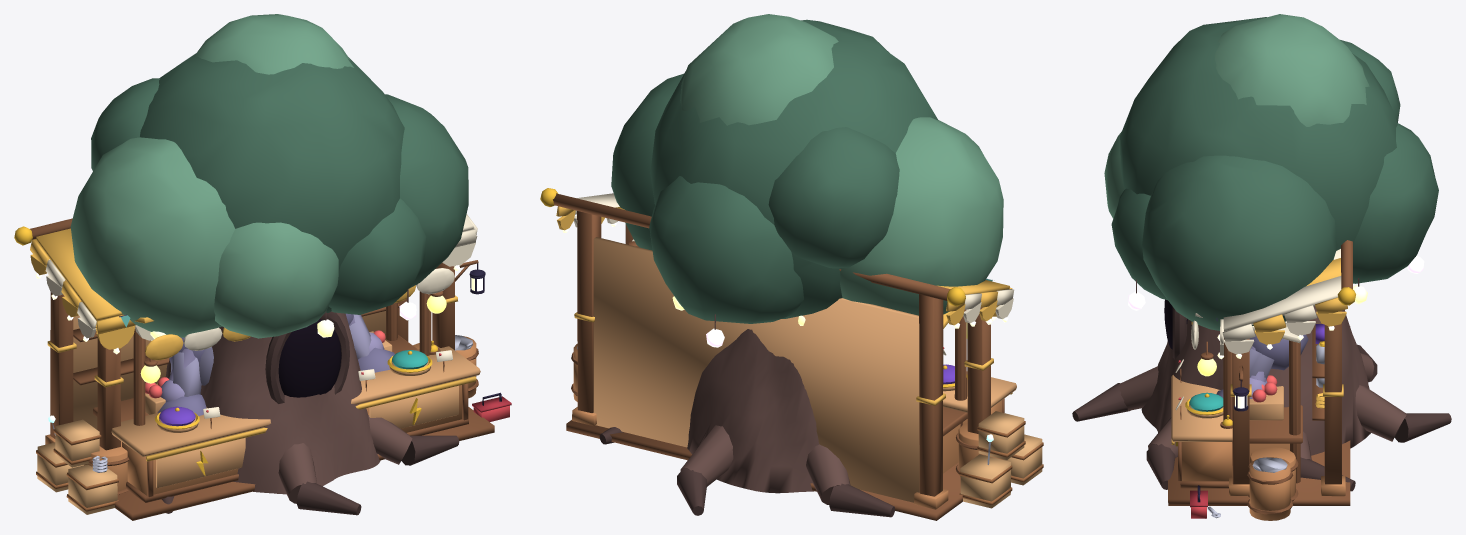
Rendered from creatures.glb.
3 renders of one model, left to right at view 1: azimuth 30°, elevation 25°; view 2: azimuth 150°, elevation 25°; view 3: azimuth 270°, elevation 25°, orthographic. The views are drawn at different scales.
Visible parts, largest first — view 1: Boss_Oak_canopy, Stall_B, Boss_Oak, Stall_A, Boss_Pebble_armL, Boss_Pebble_armR, Boss_Pebble, Boss_Beacon_armL; view 2: Boss_Oak_canopy, Stall_B, Boss_Oak, Stall_A; view 3: Boss_Oak_canopy, Stall_B, Boss_Oak, Stall_A, Boss_Pebble, Boss_Pebble_armR.
Boxes of the visible parts, x1,y1,x2,y2 form: Boss_Oak_canopy: [70, 14, 468, 338]; Stall_B: [14, 214, 511, 520]; Boss_Oak: [161, 311, 459, 515]; Stall_A: [84, 268, 454, 494]; Boss_Pebble_armL: [157, 352, 206, 415]; Boss_Pebble_armR: [349, 314, 394, 372]; Boss_Pebble: [169, 313, 353, 385]; Boss_Beacon_armL: [161, 349, 198, 402]; Boss_Oak_canopy: [611, 14, 1003, 347]; Stall_B: [540, 188, 1043, 520]; Boss_Oak: [599, 329, 894, 517]; Stall_A: [628, 239, 1003, 473]; Boss_Oak_canopy: [1104, 14, 1438, 330]; Stall_B: [1168, 240, 1355, 520]; Boss_Oak: [1072, 299, 1451, 491]; Stall_A: [1191, 313, 1302, 501]; Boss_Pebble: [1249, 331, 1308, 370]; Boss_Pebble_armR: [1216, 348, 1274, 397].
Bounding box in the file's own units: 8.76 × 8.68 × 6.91.
